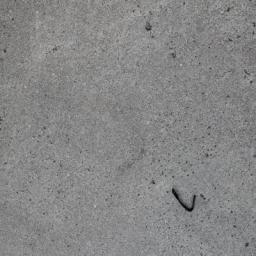FOD: (171, 185, 201, 215)
